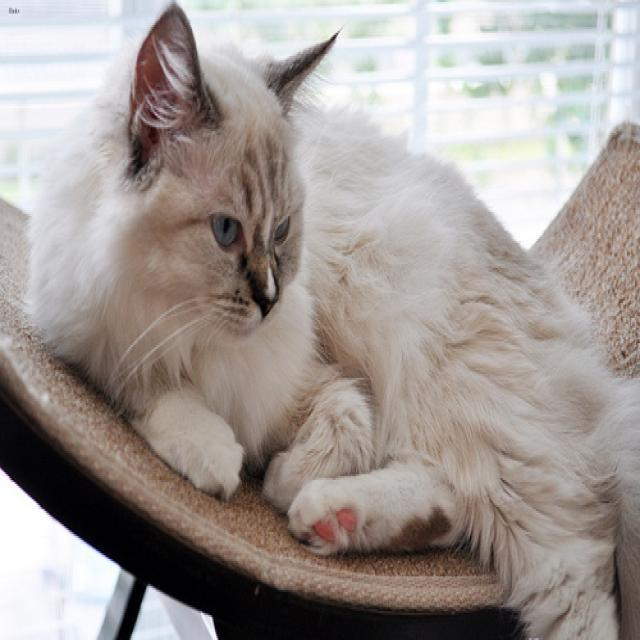Ragdoll: (105, 0, 339, 343)
